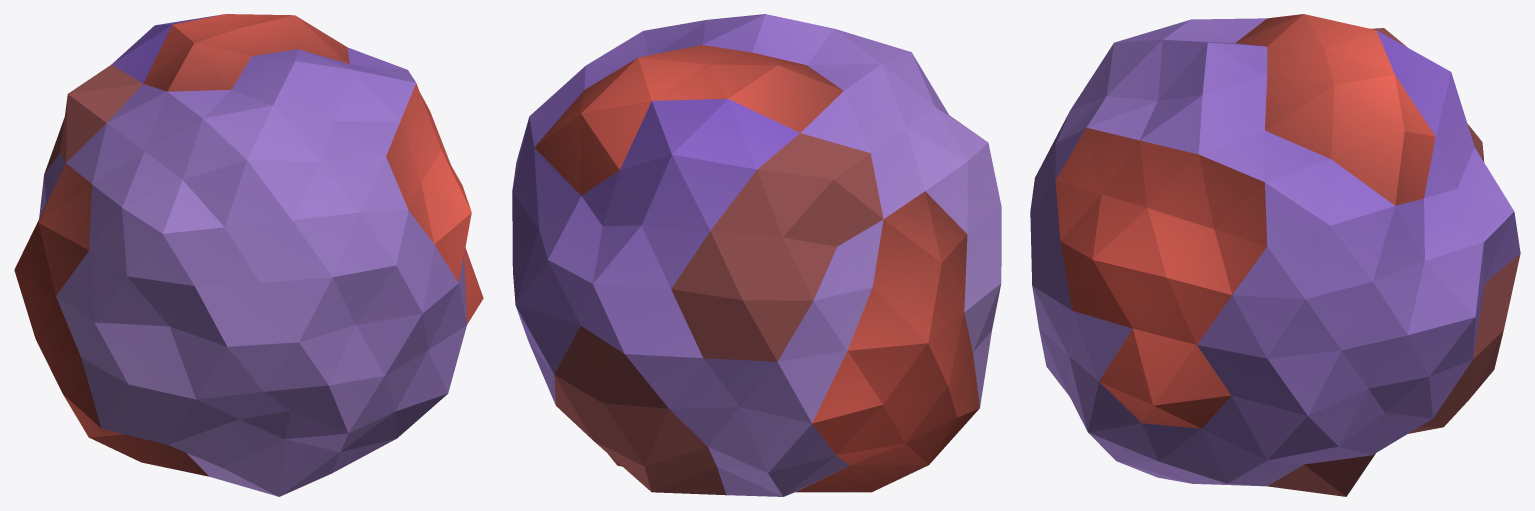
The model's file is planet2.fbx.
3 views of the same model, side by side, from view 1: azimuth 30°, elevation 25°; view 2: azimuth 150°, elevation 25°; view 3: azimuth 270°, elevation 25° (orthographic). The views are drawn at different scales.
Visible parts, largest first — view 1: Icosphere.042; view 2: Icosphere.042; view 3: Icosphere.042.
Boxes of the visible parts, box(x1,y1,x2,y2) form: Icosphere.042: box(14, 14, 483, 496); Icosphere.042: box(512, 14, 1001, 496); Icosphere.042: box(1030, 14, 1520, 496).
Size of the model in its own units: 148 by 142 by 146.
